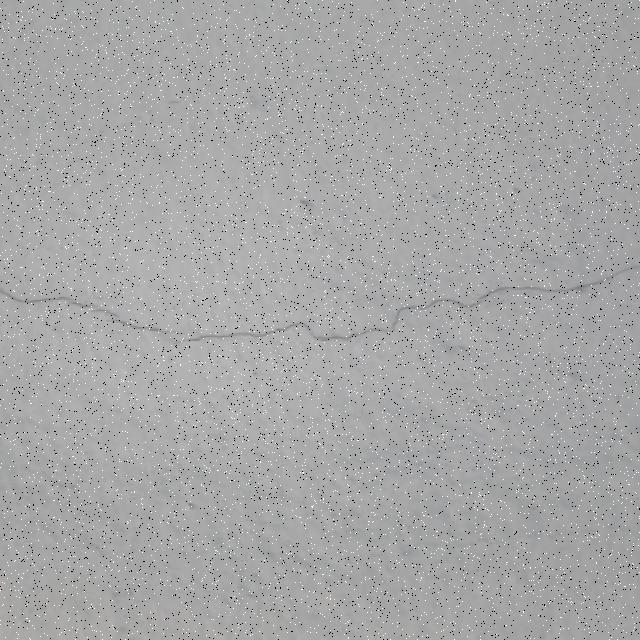minor crack: (110, 318, 323, 344), (508, 260, 634, 296), (6, 283, 124, 310), (315, 317, 412, 340), (462, 282, 530, 302)
severe crack: (8, 257, 640, 342), (394, 293, 470, 316)
